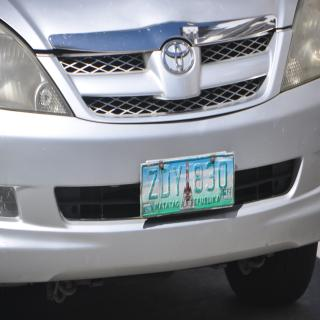license: (141, 153, 235, 218)
